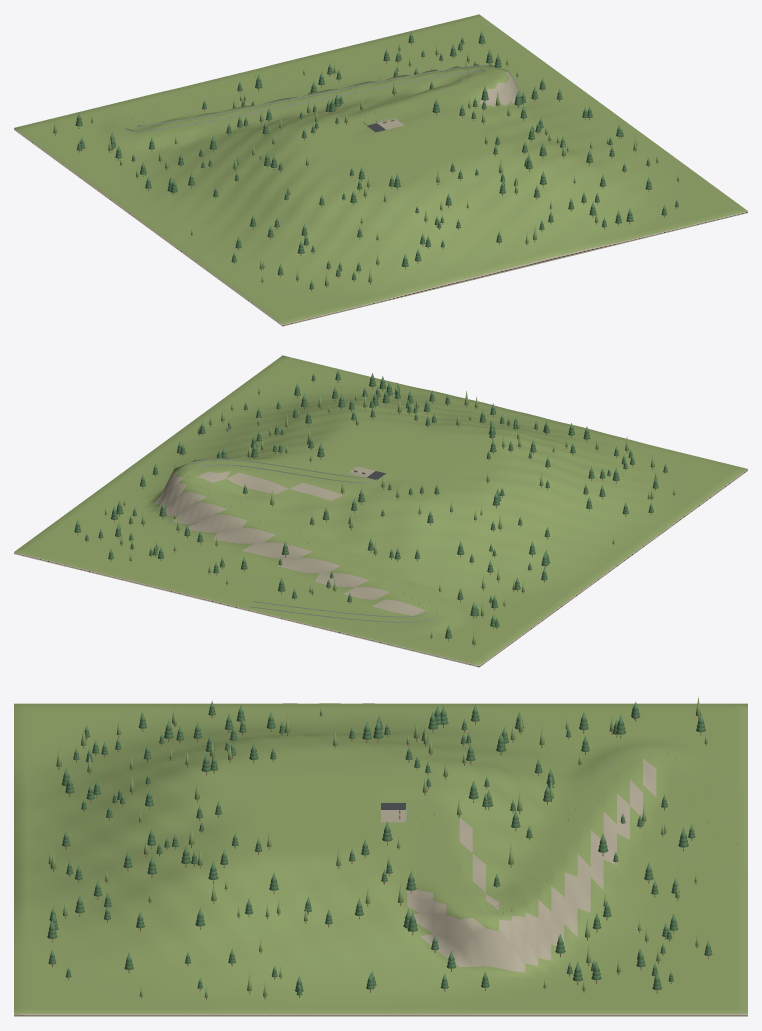
Rendered from san_andreas_hills.glb.
3 renders of one model, top to bottom at view 1: azimuth 30°, elevation 25°; view 2: azimuth 150°, elevation 25°; view 3: azimuth 270°, elevation 25°, orthographic. The views are drawn at different scales.
Visible parts, largest first — view 1: Rolling summit hillside and rugged road cuts, Deep pine foliage landscape details, Cypress olive foliage landscape details, Flat estate summit pad, Weathered bench timber landscape details; view 2: Rolling summit hillside and rugged road cuts, Deep pine foliage landscape details, Cypress olive foliage landscape details, Flat estate summit pad, Weathered bench timber landscape details; view 3: Rolling summit hillside and rugged road cuts, Deep pine foliage landscape details, Cypress olive foliage landscape details, Flat estate summit pad, Weathered bench timber landscape details.
Boxes of the visible parts, x1,y1,x2,y2 form: Rolling summit hillside and rugged road cuts: (14, 14, 747, 326); Deep pine foliage landscape details: (75, 31, 678, 289); Cypress olive foliage landscape details: (53, 42, 679, 285); Flat estate summit pad: (338, 120, 461, 169); Weathered bench timber landscape details: (55, 43, 678, 290); Rolling summit hillside and rugged road cuts: (14, 355, 747, 667); Deep pine foliage landscape details: (74, 369, 667, 638); Cypress olive foliage landscape details: (105, 382, 675, 644); Flat estate summit pad: (338, 433, 461, 482); Weathered bench timber landscape details: (77, 381, 674, 646); Rolling summit hillside and rugged road cuts: (14, 703, 747, 1016); Deep pine foliage landscape details: (47, 701, 712, 995); Cypress olive foliage landscape details: (48, 696, 707, 997); Flat estate summit pad: (276, 777, 380, 835); Weathered bench timber landscape details: (50, 715, 708, 999).
Size of what is drawn, in the model's own units: 350 by 41.51 by 350.
